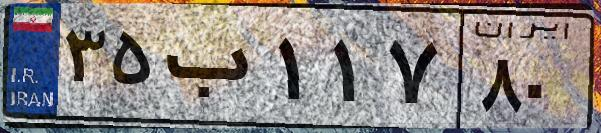0: (525, 38, 570, 115)
1: (270, 28, 330, 110), (330, 28, 385, 110)
3: (57, 26, 110, 100)
5: (110, 28, 158, 98)
7: (385, 28, 445, 110)
8: (475, 38, 525, 113)
ب: (158, 20, 270, 120)
